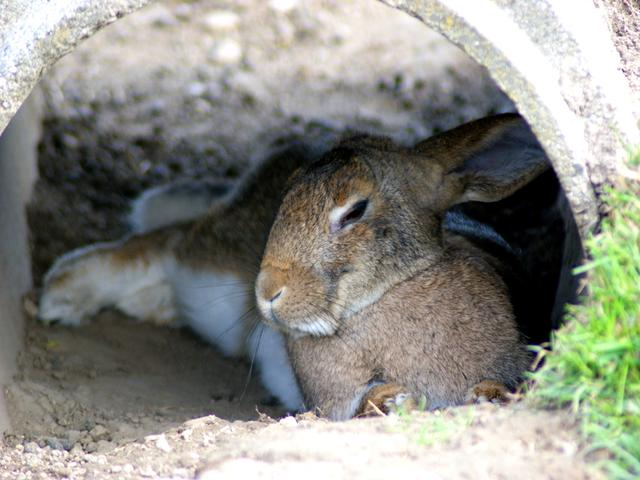rabbit: (58, 105, 587, 420)
